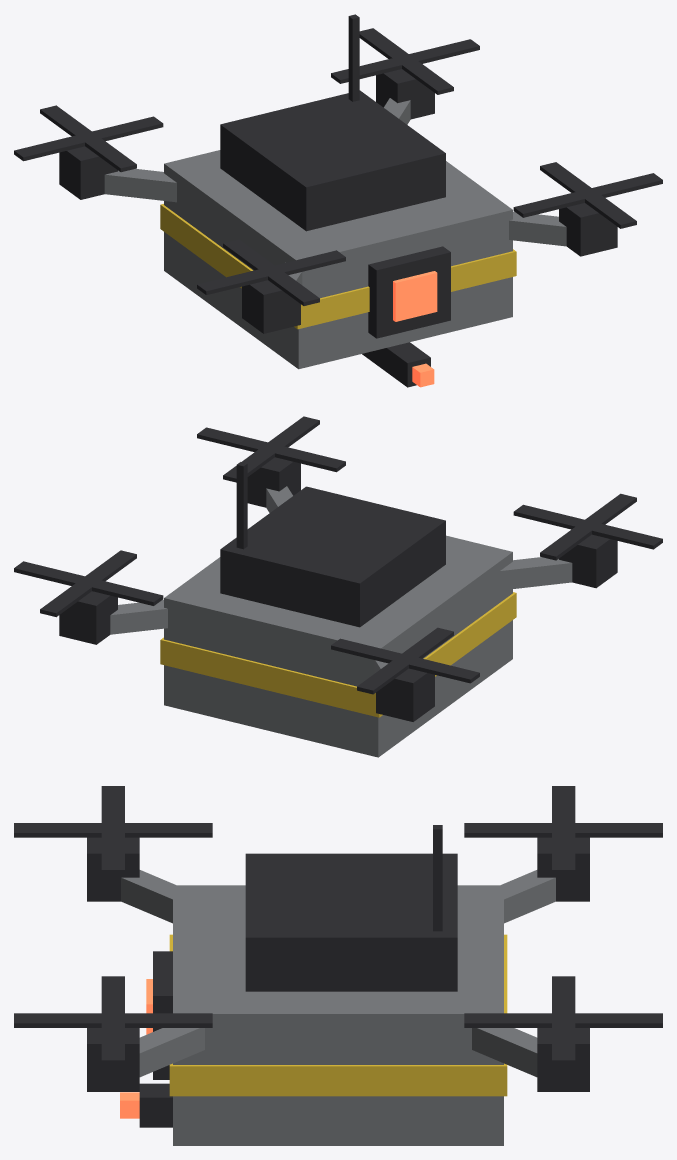
Rendered from drone.glb.
3 views of the same model, one above another, from view 1: azimuth 30°, elevation 25°; view 2: azimuth 150°, elevation 25°; view 3: azimuth 270°, elevation 25° (orthographic). The views are drawn at different scales.
Visible parts, largest first — view 1: DBody, DDome, DStripe, DEyeRim, DPod0, DPod1, DPod2, DArm2, DBlade2a, DEye, DBlade0a, DPod3 (+9 smaller); view 2: DBody, DDome, DStripe, DPod2, DPod3, DPod0, DArm0, DBlade1a, DBlade2a, DBlade0a, DBlade3a, DPod1 (+6 smaller); view 3: DBody, DDome, DStripe, DBlade1b, DBlade3b, DBlade2b, DBlade0b, DPod1, DPod3, DArm1, DArm3, DPod0 (+11 smaller).
Boxes of the visible parts, x1,y1,x2,y2 form: DBody: (164, 150, 512, 369); DDome: (220, 90, 445, 231); DStripe: (160, 204, 516, 329); DEyeRim: (368, 246, 450, 338); DPod0: (242, 280, 300, 333); DPod1: (559, 203, 617, 256); DPod2: (59, 146, 117, 199); DArm2: (104, 168, 176, 202); DBlade2a: (14, 116, 163, 161); DEye: (393, 271, 437, 321); DBlade0a: (197, 250, 345, 294); DPod3: (376, 69, 434, 119); DBody: (164, 535, 512, 757); DDome: (220, 486, 445, 627); DStripe: (160, 592, 516, 717); DPod2: (376, 668, 434, 721); DPod3: (59, 591, 117, 644); DPod0: (559, 534, 617, 588); DArm0: (500, 557, 572, 590); DBlade1a: (197, 427, 345, 472); DBlade2a: (331, 638, 479, 683); DBlade0a: (513, 504, 662, 549); DBlade3a: (14, 561, 163, 605); DPod1: (247, 457, 300, 507); DBody: (173, 885, 503, 1145); DDome: (245, 853, 457, 991); DStripe: (169, 934, 507, 1096); DBlade1b: (14, 1013, 212, 1027); DBlade3b: (464, 1013, 662, 1027); DBlade2b: (464, 823, 662, 837); DBlade0b: (14, 823, 212, 837); DPod1: (87, 1028, 139, 1091); DPod3: (537, 1028, 589, 1091); DArm1: (139, 1028, 204, 1077); DArm3: (472, 1028, 537, 1077); DPod0: (87, 837, 139, 901).
Size of the model in its own units: 0.98 by 0.545 by 0.98.
